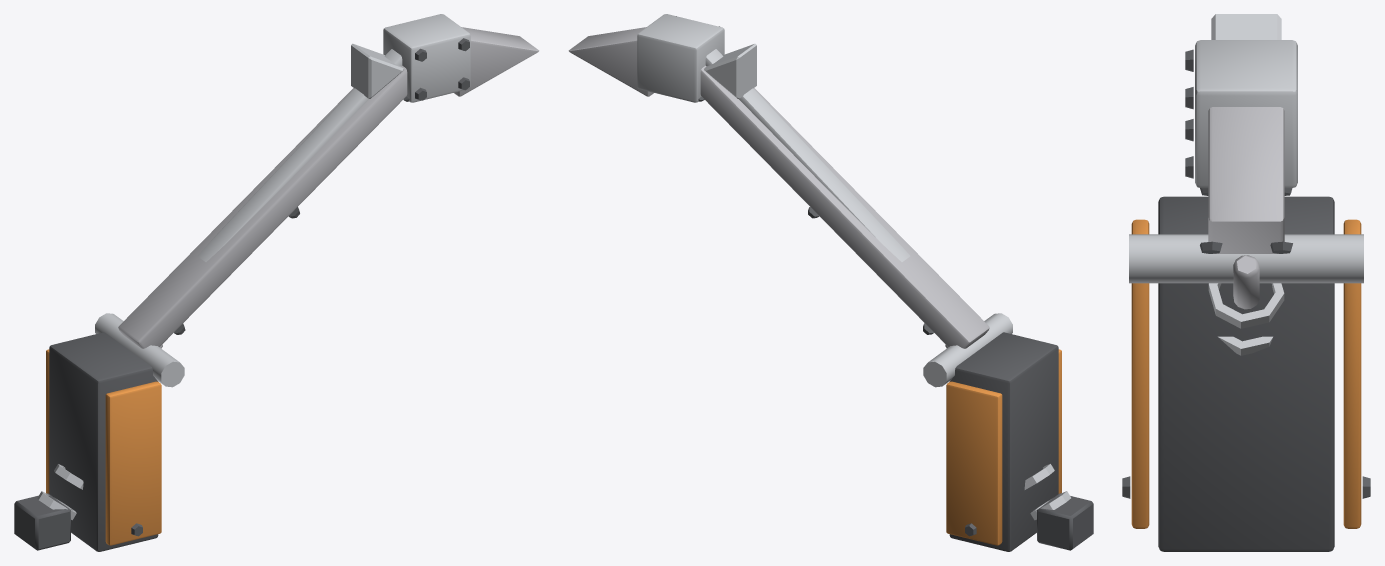
File: axe.glb
The picture shows the model from 3 angles, left to right: view 1: azimuth 30°, elevation 25°; view 2: azimuth 150°, elevation 25°; view 3: azimuth 270°, elevation 25°; orthographic projection. The views are drawn at different scales.
Parts seen in each view (by area): view 1: mount, body; view 2: mount, body; view 3: mount, body.
Part boxes in pixels (<box>): mount: <box>14,313,184,551</box>; body: <box>118,14,539,348</box>; mount: <box>923,313,1093,551</box>; body: <box>568,14,989,348</box>; mount: <box>1122,196,1370,551</box>; body: <box>1185,14,1297,309</box>.
Size of the model in its own units: 0.7033 by 0.5575 by 0.169.
